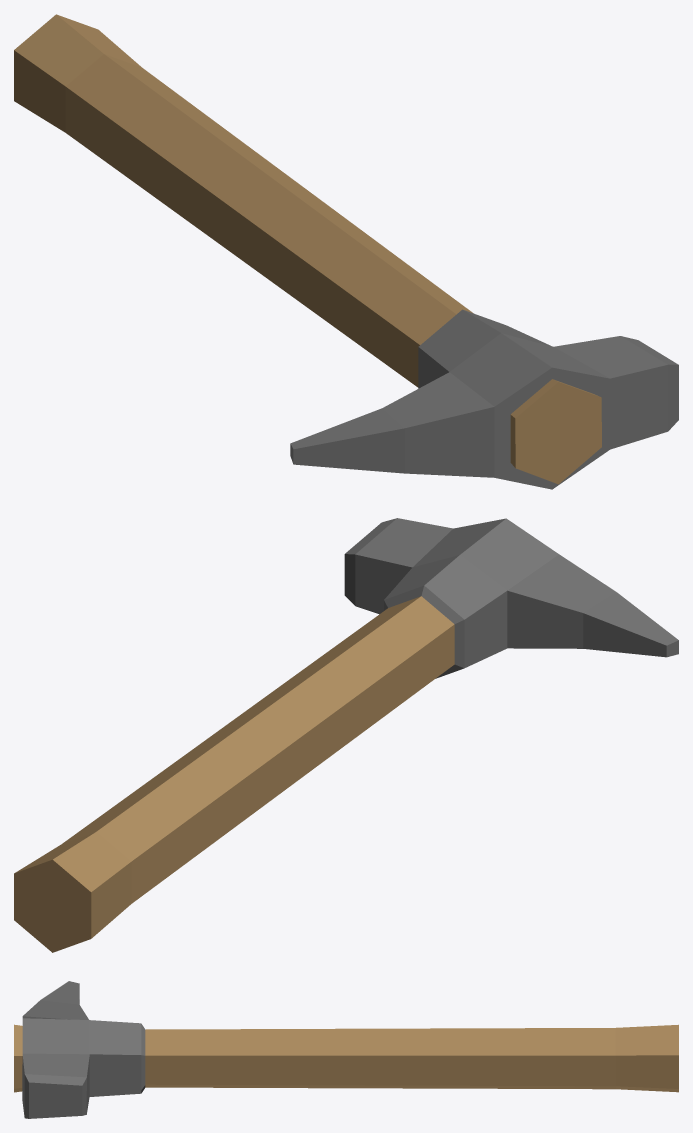
File: hammer.fbx
The picture shows the model from 3 angles, top to bottom: view 1: azimuth 30°, elevation 25°; view 2: azimuth 150°, elevation 25°; view 3: azimuth 270°, elevation 25°; orthographic projection. The views are drawn at different scales.
Parts seen in each view (by area): view 1: Hammer; view 2: Hammer; view 3: Hammer.
Part boxes in pixels (x1,y1,x2,y2): Hammer: (14, 14, 678, 489); Hammer: (14, 518, 678, 952); Hammer: (14, 981, 678, 1118).
Bounding box in the file's own units: 14.57 × 4.78 × 35.7.
